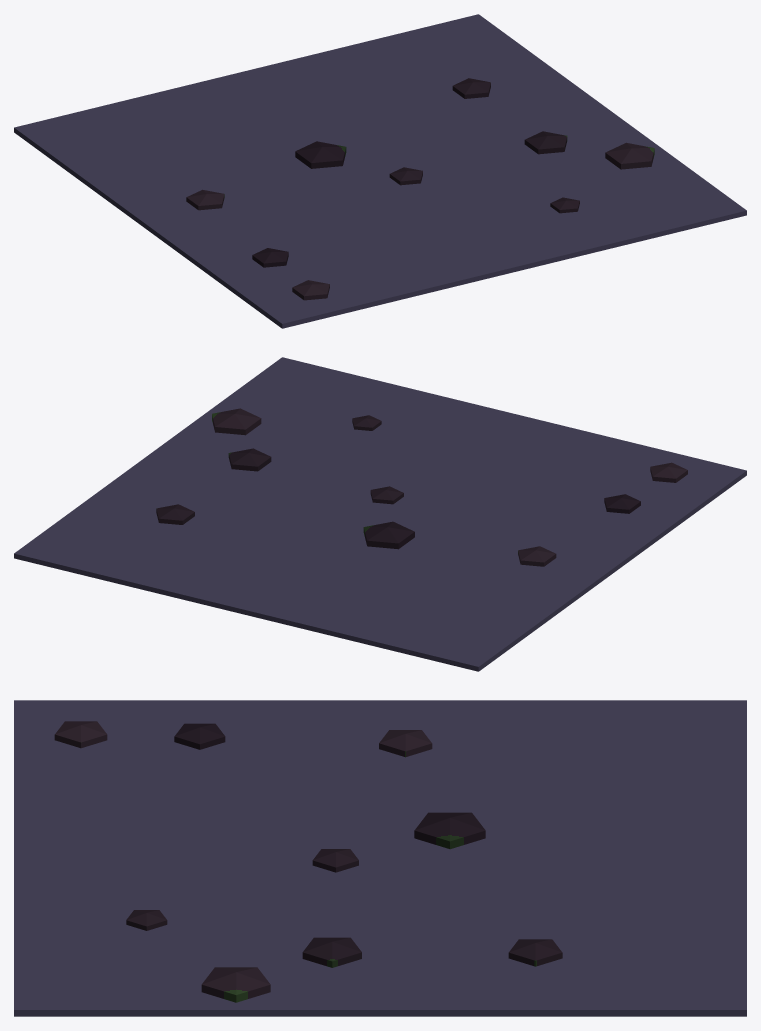
Rendered from pebble_shore.glb.
The picture shows the model from 3 angles, top to bottom: view 1: azimuth 30°, elevation 25°; view 2: azimuth 150°, elevation 25°; view 3: azimuth 270°, elevation 25°; orthographic projection. The views are drawn at different scales.
Visible parts, largest first — view 1: pebble_shore; view 2: pebble_shore; view 3: pebble_shore.
Boxes of the visible parts, x1,y1,x2,y2 form: pebble_shore: (14, 14, 746, 328); pebble_shore: (14, 357, 746, 671); pebble_shore: (14, 700, 746, 1016).
Bounding box in the file's own units: 2 × 0.0945 × 2.
Materials: 2 (1 with a texture image).
